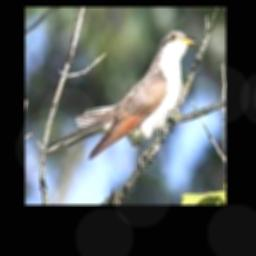Cuckoo: (75, 30, 196, 160)
